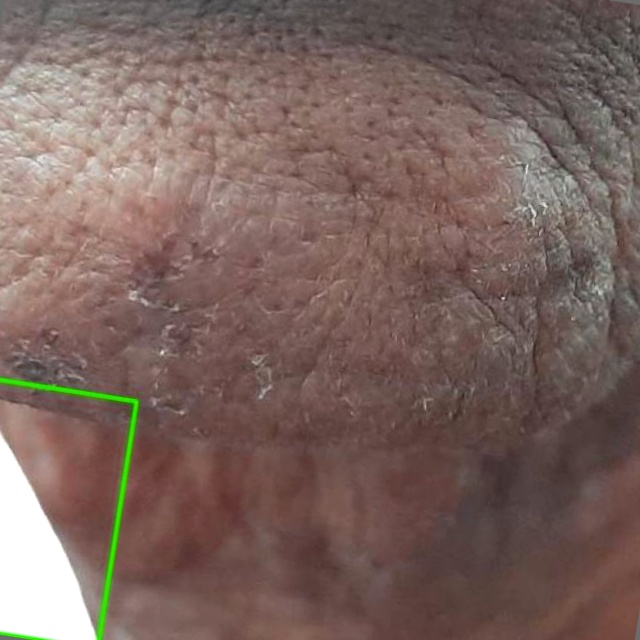Eczema: (0, 379, 136, 639)
